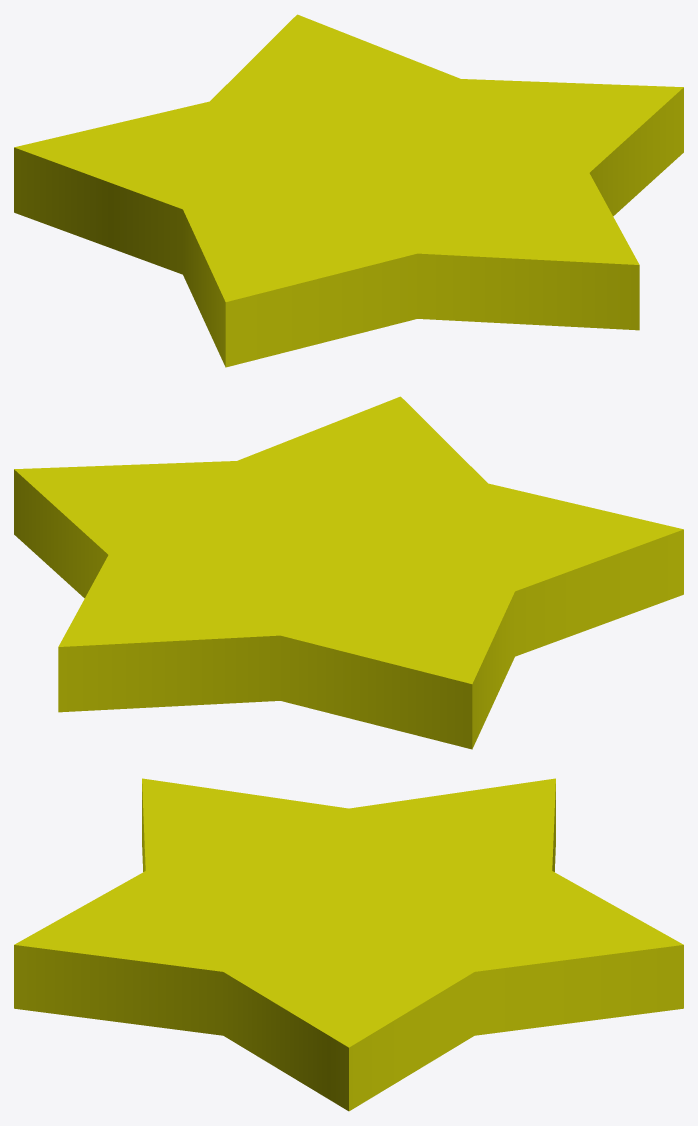
Rendered from SM_Star.glb.
The picture shows the model from 3 angles, top to bottom: view 1: azimuth 30°, elevation 25°; view 2: azimuth 150°, elevation 25°; view 3: azimuth 270°, elevation 25°; orthographic projection. The views are drawn at different scales.
Parts seen in each view (by area): view 1: geo1; view 2: geo1; view 3: geo1.
Part boxes in pixels (bbox=[...]): geo1: bbox=[14, 14, 683, 367]; geo1: bbox=[14, 396, 683, 749]; geo1: bbox=[14, 778, 683, 1111].
Size of the model in its own units: 1.81 by 0.2 by 1.9.
